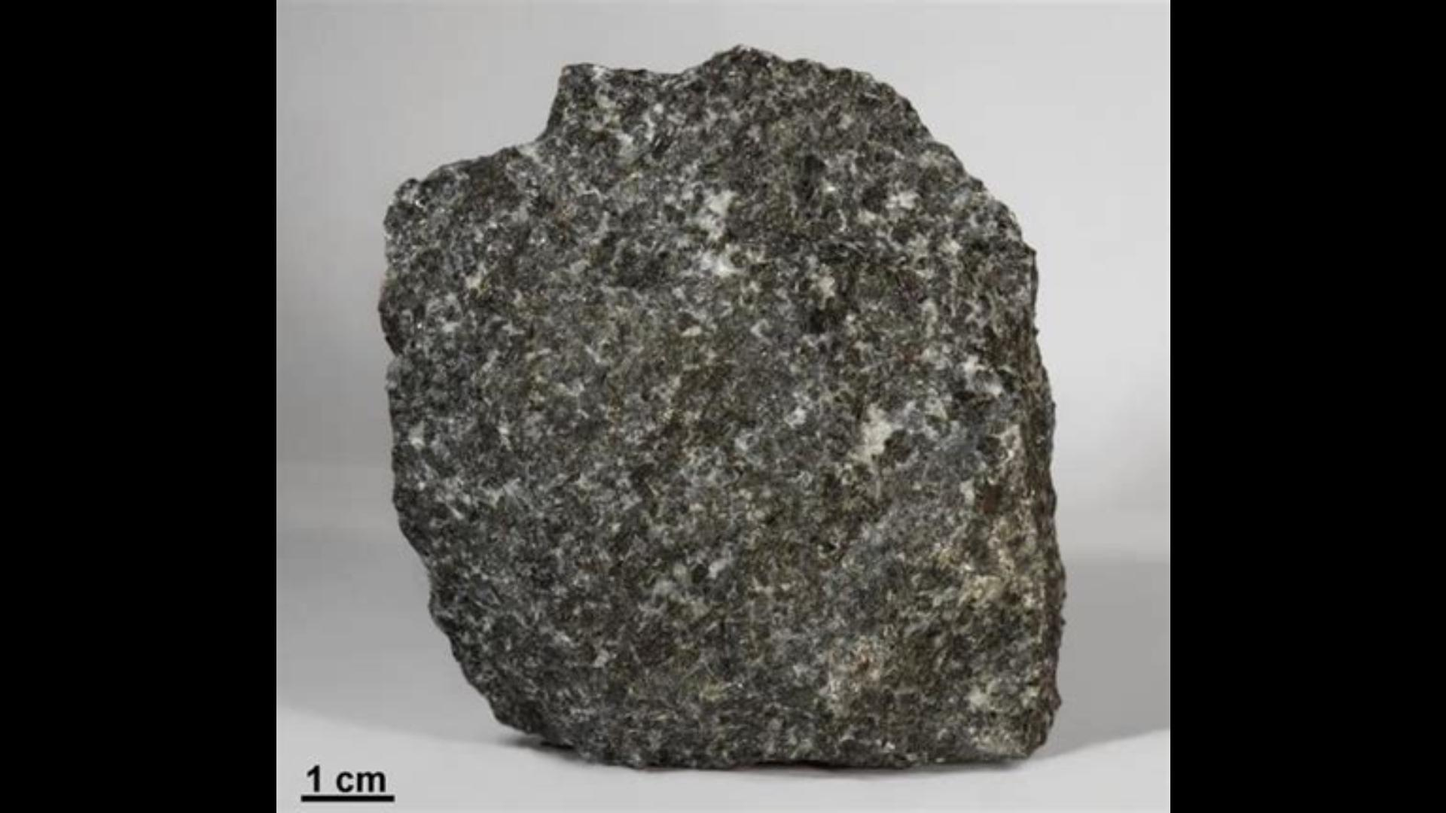rock: (379, 47, 1063, 764)
